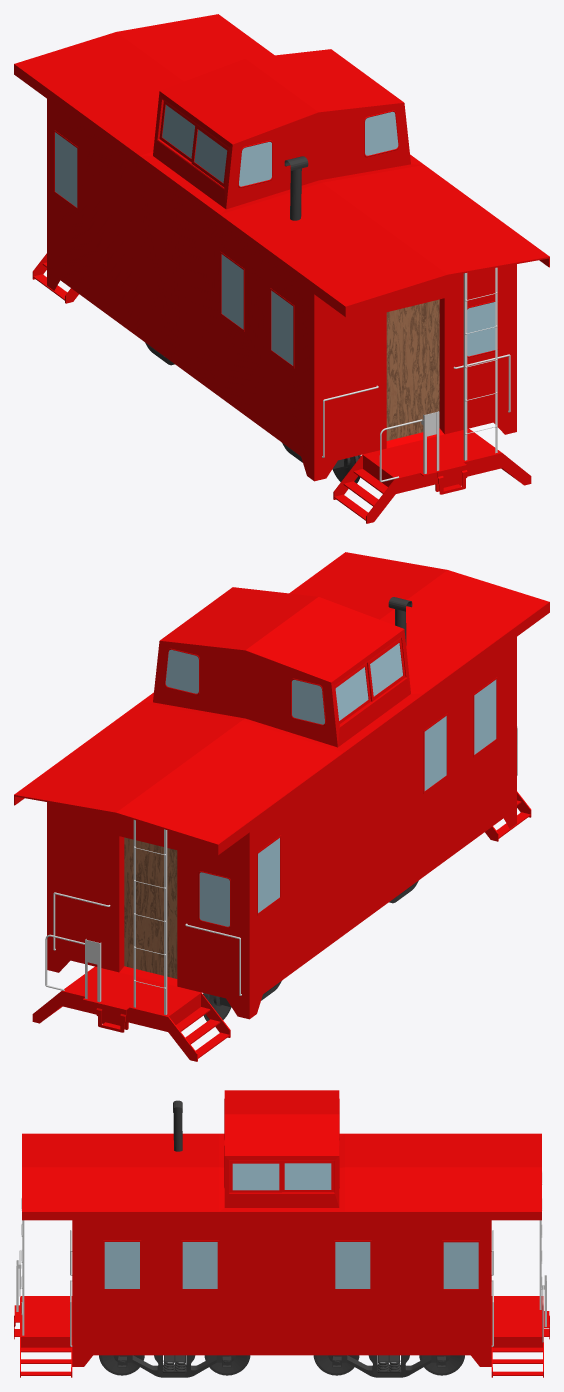
The model's file is Tren.fbx.
3 renders of one model, top to bottom at view 1: azimuth 30°, elevation 25°; view 2: azimuth 150°, elevation 25°; view 3: azimuth 270°, elevation 25°, orthographic. The views are drawn at different scales.
Visible parts, largest first — view 1: Cube; view 2: Cube; view 3: Cube, Cube.001, Circle.005, Circle.006, Circle.001, Circle.004.
Boxes of the visible parts, x1,y1,x2,y2 form: Cube: (14, 14, 549, 523); Cube: (14, 552, 549, 1061); Cube: (14, 1090, 549, 1377); Cube.001: (117, 1355, 446, 1377); Circle.005: (204, 1355, 250, 1375); Circle.006: (313, 1355, 359, 1375); Circle.001: (419, 1355, 464, 1375); Circle.004: (99, 1355, 144, 1375).
Bounding box in the file's own units: 706 × 1037 × 2046.
